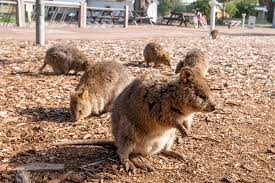quokka: (111, 62, 219, 170)
